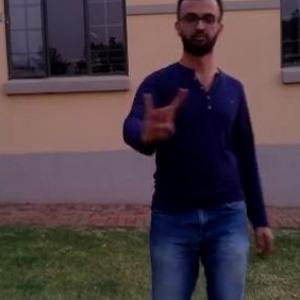takeoff-hand: (130, 80, 186, 140)
